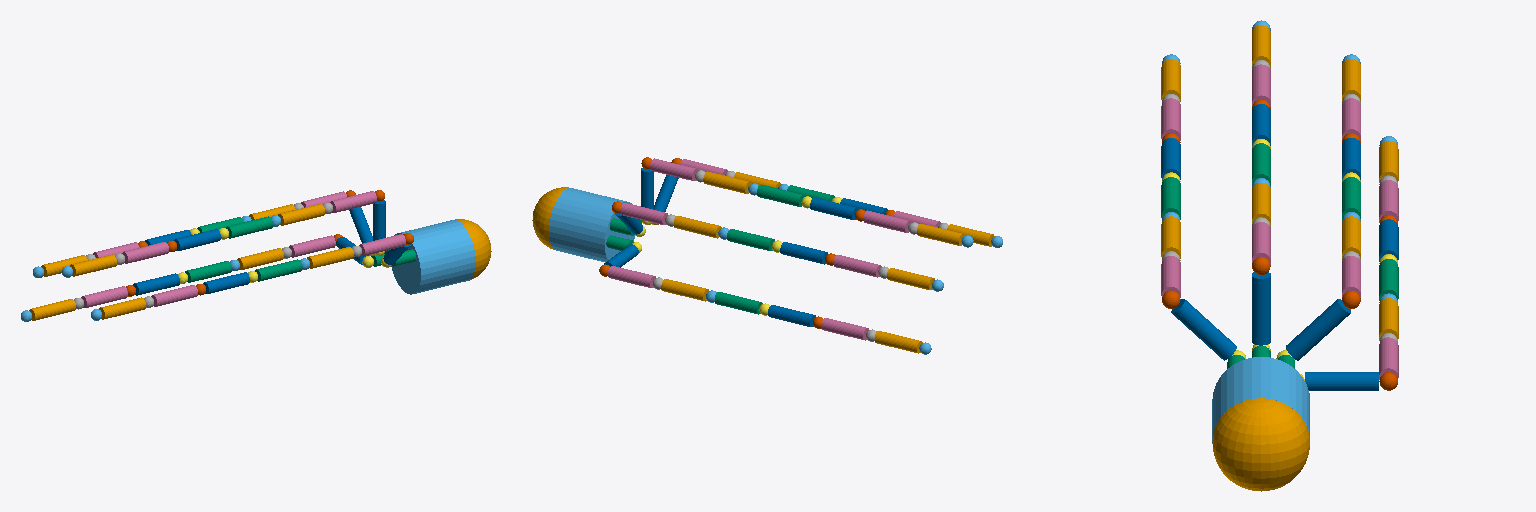
--- What the picture shows (computed from the rendered views, not written in the file) ---
3 views of the same robot in one strip: view 1: azimuth 30°, elevation 25°; view 2: azimuth 150°, elevation 25°; view 3: azimuth 270°, elevation 25° (orthographic).
Model sentinel/octopus_4_arms with 66 links and 65 joints (24 revolute, 41 fixed), rooted at eye, posed every joint at zero.
Visible links, largest first — view 1: head, eye, branch_26_cylinder, branch_04_cylinder, branch_23_cylinder, branch_02_cylinder, branch_06_cylinder, branch_22_cylinder, branch_33_cylinder, branch_36_cylinder, branch_01_cylinder, branch_03_cylinder (+8 smaller); view 2: head, eye, branch_21_cylinder, branch_22_cylinder, branch_25_cylinder, branch_02_cylinder, branch_05_cylinder, branch_14_cylinder, branch_24_cylinder, branch_01_cylinder, branch_04_cylinder, branch_06_cylinder (+8 smaller); view 3: eye, head, branch_30_cylinder, branch_10_cylinder, branch_00_cylinder, branch_20_cylinder, branch_02_cylinder, branch_05_cylinder, branch_32_cylinder, branch_33_cylinder, branch_36_cylinder, branch_04_cylinder (+18 smaller).
Link boxes in pixels (x1,y1,x2,y2): head: [391, 220, 475, 294]; eye: [455, 219, 491, 280]; branch_26_cylinder: [70, 254, 116, 276]; branch_04_cylinder: [133, 273, 179, 295]; branch_23_cylinder: [226, 216, 272, 238]; branch_02_cylinder: [237, 248, 283, 269]; branch_06_cylinder: [29, 299, 75, 320]; branch_22_cylinder: [278, 204, 324, 225]; branch_33_cylinder: [255, 259, 301, 281]; branch_36_cylinder: [99, 297, 145, 319]; branch_01_cylinder: [289, 235, 335, 257]; branch_03_cylinder: [185, 261, 231, 282]; head: [549, 188, 634, 262]; eye: [532, 187, 568, 249]; branch_21_cylinder: [650, 158, 697, 180]; branch_22_cylinder: [703, 171, 751, 193]; branch_25_cylinder: [863, 210, 911, 232]; branch_02_cylinder: [661, 279, 708, 301]; branch_05_cylinder: [821, 318, 868, 340]; branch_14_cylinder: [780, 242, 827, 264]; branch_24_cylinder: [810, 197, 857, 219]; branch_01_cylinder: [608, 266, 655, 287]; branch_04_cylinder: [768, 305, 815, 326]; branch_06_cylinder: [875, 331, 922, 353]; eye: [1212, 398, 1309, 491]; head: [1212, 357, 1309, 440]; branch_30_cylinder: [1171, 299, 1236, 360]; branch_10_cylinder: [1286, 299, 1350, 360]; branch_00_cylinder: [1305, 372, 1378, 390]; branch_20_cylinder: [1252, 272, 1270, 345]; branch_02_cylinder: [1379, 298, 1398, 340]; branch_05_cylinder: [1379, 180, 1398, 222]; branch_32_cylinder: [1161, 216, 1180, 258]; branch_33_cylinder: [1161, 177, 1180, 219]; branch_36_cylinder: [1161, 59, 1180, 101]; branch_04_cylinder: [1379, 219, 1398, 261].
Size in the robot's own frame: 1.55 by 0.4838 by 0.3801 metres.
Geometry: primitives only (box / cylinder / sphere), no mesh files.

robot.urdf — sentinel/octopus_4_arms:
<?xml version="1.0"?>
<robot name="sentinel/octopus_4_arms">
<link name="eye">
  <inertial>
   <mass value="1"/>
   <inertia ixx="0.004000000000000001" ixy="0" ixz="0" iyy="0.004000000000000001" iyz="0" izz="0.004000000000000001"/>
  </inertial>
  <collision>
    <origin rpy="0 0 0" xyz="0 0 0"/>
    <geometry>
      <sphere radius="0.1"/>
    </geometry>
  </collision>
  <visual>
    <origin rpy="0 0 0" xyz="0 0 0"/>
    <geometry>
      <sphere radius="0.1"/>
    </geometry>
  </visual>
</link>

 <link name="head">
  <inertial>
    <mass value="1"/>
    <inertia ixx="0.0058333333333333345" ixy="0" ixz="0" iyy="0.0058333333333333345" iyz="0" izz="0.0025000000000000005"/>
  </inertial>
  <visual>
    <origin rpy="0 1.57 0" xyz="-0.1 0 0"/>
    <geometry>
      <cylinder length="0.2" radius="0.1"/>
    </geometry>
  </visual>
  <collision>
    <origin rpy="0 1.57 0" xyz="-0.1 0 0"/>
    <geometry>
      <cylinder length="0.2" radius="0.1"/>
    </geometry>
  </collision>
 </link>

<joint name="joint_fixed_eye_head" type="fixed">
  <origin rpy="0 0 0" xyz="0 0 0"/>
  <parent link="eye"/>
  <child link="head"/>
</joint>

<!--############################################################################
branch_00
##############################################################################-->
 <link name="branch_00_cylinder_stub">
  <inertial>
    <mass value="1"/>
    <inertia ixx="0.0005687499999999999" ixy="0" ixz="0" iyy="0.0005687499999999999" iyz="0" izz="0.0001"/>
  </inertial>
  <visual>
    <origin rpy="0 1.57 0" xyz="-0.0375 0 0"/>
    <geometry>
      <cylinder length="0.075" radius="0.02"/>
    </geometry>
  </visual>
  <collision>
    <origin rpy="0 1.57 0" xyz="-0.0375 0 0"/>
    <geometry>
      <cylinder length="0.075" radius="0.02"/>
    </geometry>
  </collision>
 </link>

<joint name="joint_fixed_head_branch_00_cylinder_stub" type="fixed">
  <origin rpy="0 0 0" xyz="-0.2 0.06999999999999999 0.0"/>
  <parent link="head"/>
  <child link="branch_00_cylinder_stub"/>
</joint>

<link name="branch_00_sphere_stub">
  <inertial>
   <mass value="1"/>
   <inertia ixx="0.00014439999999999999" ixy="0" ixz="0" iyy="0.00014439999999999999" iyz="0" izz="0.00014439999999999999"/>
  </inertial>
  <collision>
    <origin rpy="0 0 0" xyz="-0.095 0 0"/>
    <geometry>
      <sphere radius="0.019"/>
    </geometry>
  </collision>
  <visual>
    <origin rpy="0 0 0" xyz="-0.095 0 0"/>
    <geometry>
      <sphere radius="0.019"/>
    </geometry>
  </visual>
</link>

<joint name="joint_fixed_branch_00_cylinder_stub_branch_00_sphere_stub" type="fixed">
  <origin rpy="0 0 0" xyz="0 0 0"/>
  <parent link="branch_00_cylinder_stub"/>
  <child link="branch_00_sphere_stub"/>
</joint>

 <link name="branch_00_cylinder">
  <inertial>
    <mass value="1"/>
    <inertia ixx="0.0019749999999999998" ixy="0" ixz="0" iyy="0.0019749999999999998" iyz="0" izz="0.0001"/>
  </inertial>
  <visual>
    <origin rpy="0 1.5707963267948966 1.57" xyz="-0.095 0.095 0.0"/>
    <geometry>
      <cylinder length="0.15" radius="0.02"/>
    </geometry>
  </visual>
  <collision>
    <origin rpy="0 1.5707963267948966 1.57" xyz="-0.095 0.095 0.0"/>
    <geometry>
      <cylinder length="0.15" radius="0.02"/>
    </geometry>
  </collision>
 </link>

<joint name="joint_fixed_branch_00_sphere_stub_branch_00_cylinder" type="fixed">
  <origin rpy="0 0 0" xyz="0 0 0"/>
  <parent link="branch_00_sphere_stub"/>
  <child link="branch_00_cylinder"/>
</joint>

<link name="branch_00">
  <inertial>
   <mass value="1"/>
   <inertia ixx="0.00014439999999999999" ixy="0" ixz="0" iyy="0.00014439999999999999" iyz="0" izz="0.00014439999999999999"/>
  </inertial>
  <collision>
    <origin rpy="0 0 0" xyz="0 0 0"/>
    <geometry>
      <sphere radius="0.019"/>
    </geometry>
  </collision>
  <visual>
    <origin rpy="0 0 0" xyz="0 0 0"/>
    <geometry>
      <sphere radius="0.019"/>
    </geometry>
  </visual>
</link>

<joint name="joint_fixed_branch_00_cylinder_branch_00" type="fixed">
  <origin rpy="0 0 0" xyz="-0.095 0.19 0.0"/>
  <parent link="branch_00_cylinder"/>
  <child link="branch_00"/>
</joint>

<!--############################################################################
branch_01
##############################################################################-->
 <link name="branch_01_cylinder">
  <inertial>
    <mass value="1"/>
    <inertia ixx="0.0019749999999999998" ixy="0" ixz="0" iyy="0.0019749999999999998" iyz="0" izz="0.0001"/>
  </inertial>
  <visual>
    <origin rpy="0 1.57 0" xyz="-0.095 0 0"/>
    <geometry>
      <cylinder length="0.15" radius="0.02"/>
    </geometry>
  </visual>
  <collision>
    <origin rpy="0 1.57 0" xyz="-0.095 0 0"/>
    <geometry>
      <cylinder length="0.15" radius="0.02"/>
    </geometry>
  </collision>
 </link>

<joint name="joint_revolute_branch_00_branch_01_cylinder_Z" type="revolute">
  <origin rpy="0 0 0" xyz="0 0 0"/>
  <parent link="branch_00"/>
  <child link="branch_01_cylinder"/>
  <axis xyz="0 0.0 -1.0"/>
  <dynamics damping="0.01" friction="0.5"/>
  <limit lower="-1.5707963267948966" upper="1.5707963267948966" effort="0.01" velocity="100"/>
</joint>

<link name="branch_01">
  <inertial>
   <mass value="1"/>
   <inertia ixx="0.00014439999999999999" ixy="0" ixz="0" iyy="0.00014439999999999999" iyz="0" izz="0.00014439999999999999"/>
  </inertial>
  <collision>
    <origin rpy="0 0 0" xyz="0 0 0"/>
    <geometry>
      <sphere radius="0.019"/>
    </geometry>
  </collision>
  <visual>
    <origin rpy="0 0 0" xyz="0 0 0"/>
    <geometry>
      <sphere radius="0.019"/>
    </geometry>
  </visual>
</link>

<joint name="joint_fixed_branch_01_cylinder_branch_01" type="fixed">
  <origin rpy="0 0 0" xyz="-0.19 0 0"/>
  <parent link="branch_01_cylinder"/>
  <child link="branch_01"/>
</joint>

<!--############################################################################
branch_02
##############################################################################-->
 <link name="branch_02_cylinder">
  <inertial>
    <mass value="1"/>
    <inertia ixx="0.0019749999999999998" ixy="0" ixz="0" iyy="0.0019749999999999998" iyz="0" izz="0.0001"/>
  </inertial>
  <visual>
    <origin rpy="0 1.57 0" xyz="-0.095 0 0"/>
    <geometry>
      <cylinder length="0.15" radius="0.02"/>
    </geometry>
  </visual>
  <collision>
    <origin rpy="0 1.57 0" xyz="-0.095 0 0"/>
    <geometry>
      <cylinder length="0.15" radius="0.02"/>
    </geometry>
  </collision>
 </link>

<joint name="joint_revolute_branch_01_branch_02_cylinder_Z" type="revolute">
  <origin rpy="0 0 0" xyz="0 0 0"/>
  <parent link="branch_01"/>
  <child link="branch_02_cylinder"/>
  <axis xyz="0 0.0 -1.0"/>
  <dynamics damping="0.01" friction="0.5"/>
  <limit lower="-1.5707963267948966" upper="1.5707963267948966" effort="0.01" velocity="100"/>
</joint>

<link name="branch_02">
  <inertial>
   <mass value="1"/>
   <inertia ixx="0.00014439999999999999" ixy="0" ixz="0" iyy="0.00014439999999999999" iyz="0" izz="0.00014439999999999999"/>
  </inertial>
  <collision>
    <origin rpy="0 0 0" xyz="0 0 0"/>
    <geometry>
      <sphere radius="0.019"/>
    </geometry>
  </collision>
  <visual>
    <origin rpy="0 0 0" xyz="0 0 0"/>
    <geometry>
      <sphere radius="0.019"/>
    </geometry>
  </visual>
</link>

<joint name="joint_fixed_branch_02_cylinder_branch_02" type="fixed">
  <origin rpy="0 0 0" xyz="-0.19 0 0"/>
  <parent link="branch_02_cylinder"/>
  <child link="branch_02"/>
</joint>

<!--############################################################################
branch_03
##############################################################################-->
 <link name="branch_03_cylinder">
  <inertial>
    <mass value="1"/>
    <inertia ixx="0.0019749999999999998" ixy="0" ixz="0" iyy="0.0019749999999999998" iyz="0" izz="0.0001"/>
  </inertial>
  <visual>
    <origin rpy="0 1.57 0" xyz="-0.095 0 0"/>
    <geometry>
      <cylinder length="0.15" radius="0.02"/>
    </geometry>
  </visual>
  <collision>
    <origin rpy="0 1.57 0" xyz="-0.095 0 0"/>
    <geometry>
      <cylinder length="0.15" radius="0.02"/>
    </geometry>
  </collision>
 </link>

<joint name="joint_revolute_branch_02_branch_03_cylinder_Z" type="revolute">
  <origin rpy="0 0 0" xyz="0 0 0"/>
  <parent link="branch_02"/>
  <child link="branch_03_cylinder"/>
  <axis xyz="0 0.0 -1.0"/>
  <dynamics damping="0.01" friction="0.5"/>
  <limit lower="-1.5707963267948966" upper="1.5707963267948966" effort="0.01" velocity="100"/>
</joint>

<link name="branch_03">
  <inertial>
   <mass value="1"/>
   <inertia ixx="0.00014439999999999999" ixy="0" ixz="0" iyy="0.00014439999999999999" iyz="0" izz="0.00014439999999999999"/>
  </inertial>
  <collision>
    <origin rpy="0 0 0" xyz="0 0 0"/>
    <geometry>
      <sphere radius="0.019"/>
    </geometry>
  </collision>
  <visual>
    <origin rpy="0 0 0" xyz="0 0 0"/>
    <geometry>
      <sphere radius="0.019"/>
    </geometry>
  </visual>
</link>

<joint name="joint_fixed_branch_03_cylinder_branch_03" type="fixed">
  <origin rpy="0 0 0" xyz="-0.19 0 0"/>
  <parent link="branch_03_cylinder"/>
  <child link="branch_03"/>
</joint>

<!--############################################################################
branch_04
##############################################################################-->
 <link name="branch_04_cylinder">
  <inertial>
    <mass value="1"/>
    <inertia ixx="0.0019749999999999998" ixy="0" ixz="0" iyy="0.0019749999999999998" iyz="0" izz="0.0001"/>
  </inertial>
  <visual>
    <origin rpy="0 1.57 0" xyz="-0.095 0 0"/>
    <geometry>
      <cylinder length="0.15" radius="0.02"/>
    </geometry>
  </visual>
  <collision>
    <origin rpy="0 1.57 0" xyz="-0.095 0 0"/>
    <geometry>
      <cylinder length="0.15" radius="0.02"/>
    </geometry>
  </collision>
 </link>

<joint name="joint_revolute_branch_03_branch_04_cylinder_Z" type="revolute">
  <origin rpy="0 0 0" xyz="0 0 0"/>
  <parent link="branch_03"/>
  <child link="branch_04_cylinder"/>
  <axis xyz="0 0.0 -1.0"/>
  <dynamics damping="0.01" friction="0.5"/>
  <limit lower="-1.5707963267948966" upper="1.5707963267948966" effort="0.01" velocity="100"/>
</joint>

<link name="branch_04">
  <inertial>
   <mass value="1"/>
   <inertia ixx="0.00014439999999999999" ixy="0" ixz="0" iyy="0.00014439999999999999" iyz="0" izz="0.00014439999999999999"/>
  </inertial>
  <collision>
    <origin rpy="0 0 0" xyz="0 0 0"/>
    <geometry>
      <sphere radius="0.019"/>
    </geometry>
  </collision>
  <visual>
    <origin rpy="0 0 0" xyz="0 0 0"/>
    <geometry>
      <sphere radius="0.019"/>
    </geometry>
  </visual>
</link>

<joint name="joint_fixed_branch_04_cylinder_branch_04" type="fixed">
  <origin rpy="0 0 0" xyz="-0.19 0 0"/>
  <parent link="branch_04_cylinder"/>
  <child link="branch_04"/>
</joint>

<!--############################################################################
branch_05
##############################################################################-->
 <link name="branch_05_cylinder">
  <inertial>
    <mass value="1"/>
    <inertia ixx="0.0019749999999999998" ixy="0" ixz="0" iyy="0.0019749999999999998" iyz="0" izz="0.0001"/>
  </inertial>
  <visual>
    <origin rpy="0 1.57 0" xyz="-0.095 0 0"/>
    <geometry>
      <cylinder length="0.15" radius="0.02"/>
    </geometry>
  </visual>
  <collision>
    <origin rpy="0 1.57 0" xyz="-0.095 0 0"/>
    <geometry>
      <cylinder length="0.15" radius="0.02"/>
    </geometry>
  </collision>
 </link>

<joint name="joint_revolute_branch_04_branch_05_cylinder_Z" type="revolute">
  <origin rpy="0 0 0" xyz="0 0 0"/>
  <parent link="branch_04"/>
  <child link="branch_05_cylinder"/>
  <axis xyz="0 0.0 -1.0"/>
  <dynamics damping="0.01" friction="0.5"/>
  <limit lower="-1.5707963267948966" upper="1.5707963267948966" effort="0.01" velocity="100"/>
</joint>

<link name="branch_05">
  <inertial>
   <mass value="1"/>
   <inertia ixx="0.00014439999999999999" ixy="0" ixz="0" iyy="0.00014439999999999999" iyz="0" izz="0.00014439999999999999"/>
  </inertial>
  <collision>
    <origin rpy="0 0 0" xyz="0 0 0"/>
    <geometry>
      <sphere radius="0.019"/>
    </geometry>
  </collision>
  <visual>
    <origin rpy="0 0 0" xyz="0 0 0"/>
    <geometry>
      <sphere radius="0.019"/>
    </geometry>
  </visual>
</link>

<joint name="joint_fixed_branch_05_cylinder_branch_05" type="fixed">
  <origin rpy="0 0 0" xyz="-0.19 0 0"/>
  <parent link="branch_05_cylinder"/>
  <child link="branch_05"/>
</joint>

<!--############################################################################
branch_06
##############################################################################-->
 <link name="branch_06_cylinder">
  <inertial>
    <mass value="1"/>
    <inertia ixx="0.0019749999999999998" ixy="0" ixz="0" iyy="0.0019749999999999998" iyz="0" izz="0.0001"/>
  </inertial>
  <visual>
    <origin rpy="0 1.57 0" xyz="-0.095 0 0"/>
    <geometry>
      <cylinder length="0.15" radius="0.02"/>
    </geometry>
  </visual>
  <collision>
    <origin rpy="0 1.57 0" xyz="-0.095 0 0"/>
    <geometry>
      <cylinder length="0.15" radius="0.02"/>
    </geometry>
  </collision>
 </link>

<joint name="joint_revolute_branch_05_branch_06_cylinder_Z" type="revolute">
  <origin rpy="0 0 0" xyz="0 0 0"/>
  <parent link="branch_05"/>
  <child link="branch_06_cylinder"/>
  <axis xyz="0 0.0 -1.0"/>
  <dynamics damping="0.01" friction="0.5"/>
  <limit lower="-1.5707963267948966" upper="1.5707963267948966" effort="0.01" velocity="100"/>
</joint>

<link name="branch_06">
  <inertial>
   <mass value="1"/>
   <inertia ixx="0.00014439999999999999" ixy="0" ixz="0" iyy="0.00014439999999999999" iyz="0" izz="0.00014439999999999999"/>
  </inertial>
  <collision>
    <origin rpy="0 0 0" xyz="0 0 0"/>
    <geometry>
      <sphere radius="0.019"/>
    </geometry>
  </collision>
  <visual>
    <origin rpy="0 0 0" xyz="0 0 0"/>
    <geometry>
      <sphere radius="0.019"/>
    </geometry>
  </visual>
</link>

<joint name="joint_fixed_branch_06_cylinder_branch_06" type="fixed">
  <origin rpy="0 0 0" xyz="-0.19 0 0"/>
  <parent link="branch_06_cylinder"/>
  <child link="branch_06"/>
</joint>

<!--############################################################################
branch_10
##############################################################################-->
 <link name="branch_10_cylinder_stub">
  <inertial>
    <mass value="1"/>
    <inertia ixx="0.0005687499999999999" ixy="0" ixz="0" iyy="0.0005687499999999999" iyz="0" izz="0.0001"/>
  </inertial>
  <visual>
    <origin rpy="0 1.57 0" xyz="-0.0375 0 0"/>
    <geometry>
      <cylinder length="0.075" radius="0.02"/>
    </geometry>
  </visual>
  <collision>
    <origin rpy="0 1.57 0" xyz="-0.0375 0 0"/>
    <geometry>
      <cylinder length="0.075" radius="0.02"/>
    </geometry>
  </collision>
 </link>

<joint name="joint_fixed_head_branch_10_cylinder_stub" type="fixed">
  <origin rpy="0 0 0" xyz="-0.2 0.049497474683058325 0.04949747468305832"/>
  <parent link="head"/>
  <child link="branch_10_cylinder_stub"/>
</joint>

<link name="branch_10_sphere_stub">
  <inertial>
   <mass value="1"/>
   <inertia ixx="0.00014439999999999999" ixy="0" ixz="0" iyy="0.00014439999999999999" iyz="0" izz="0.00014439999999999999"/>
  </inertial>
  <collision>
    <origin rpy="0 0 0" xyz="-0.095 0 0"/>
    <geometry>
      <sphere radius="0.019"/>
    </geometry>
  </collision>
  <visual>
    <origin rpy="0 0 0" xyz="-0.095 0 0"/>
    <geometry>
      <sphere radius="0.019"/>
    </geometry>
  </visual>
</link>

<joint name="joint_fixed_branch_10_cylinder_stub_branch_10_sphere_stub" type="fixed">
  <origin rpy="0 0 0" xyz="0 0 0"/>
  <parent link="branch_10_cylinder_stub"/>
  <child link="branch_10_sphere_stub"/>
</joint>

 <link name="branch_10_cylinder">
  <inertial>
    <mass value="1"/>
    <inertia ixx="0.0019749999999999998" ixy="0" ixz="0" iyy="0.0019749999999999998" iyz="0" izz="0.0001"/>
  </inertial>
  <visual>
    <origin rpy="0 0.7853981633974484 1.57" xyz="-0.095 0.06717514421272201 0.06717514421272201"/>
    <geometry>
      <cylinder length="0.15" radius="0.02"/>
    </geometry>
  </visual>
  <collision>
    <origin rpy="0 0.7853981633974484 1.57" xyz="-0.095 0.06717514421272201 0.06717514421272201"/>
    <geometry>
      <cylinder length="0.15" radius="0.02"/>
    </geometry>
  </collision>
 </link>

<joint name="joint_fixed_branch_10_sphere_stub_branch_10_cylinder" type="fixed">
  <origin rpy="0 0 0" xyz="0 0 0"/>
  <parent link="branch_10_sphere_stub"/>
  <child link="branch_10_cylinder"/>
</joint>

<link name="branch_10">
  <inertial>
   <mass value="1"/>
   <inertia ixx="0.00014439999999999999" ixy="0" ixz="0" iyy="0.00014439999999999999" iyz="0" izz="0.00014439999999999999"/>
  </inertial>
  <collision>
    <origin rpy="0 0 0" xyz="0 0 0"/>
    <geometry>
      <sphere radius="0.019"/>
    </geometry>
  </collision>
  <visual>
    <origin rpy="0 0 0" xyz="0 0 0"/>
    <geometry>
      <sphere radius="0.019"/>
    </geometry>
  </visual>
</link>

<joint name="joint_fixed_branch_10_cylinder_branch_10" type="fixed">
  <origin rpy="0 0 0" xyz="-0.095 0.13435028842544403 0.13435028842544403"/>
  <parent link="branch_10_cylinder"/>
  <child link="branch_10"/>
</joint>

<!--############################################################################
branch_11
##############################################################################-->
 <link name="branch_11_cylinder">
  <inertial>
    <mass value="1"/>
    <inertia ixx="0.0019749999999999998" ixy="0" ixz="0" iyy="0.0019749999999999998" iyz="0" izz="0.0001"/>
  </inertial>
  <visual>
    <origin rpy="0 1.57 0" xyz="-0.095 0 0"/>
    <geometry>
      <cylinder length="0.15" radius="0.02"/>
    </geometry>
  </visual>
  <collision>
    <origin rpy="0 1.57 0" xyz="-0.095 0 0"/>
    <geometry>
      <cylinder length="0.15" radius="0.02"/>
    </geometry>
  </collision>
 </link>

<joint name="joint_revolute_branch_10_branch_11_cylinder_Z" type="revolute">
  <origin rpy="0 0 0" xyz="0 0 0"/>
  <parent link="branch_10"/>
  <child link="branch_11_cylinder"/>
  <axis xyz="0 0.7071067811865475 -0.7071067811865476"/>
  <dynamics damping="0.01" friction="0.5"/>
  <limit lower="-1.5707963267948966" upper="1.5707963267948966" effort="0.01" velocity="100"/>
</joint>

<link name="branch_11">
  <inertial>
   <mass value="1"/>
   <inertia ixx="0.00014439999999999999" ixy="0" ixz="0" iyy="0.00014439999999999999" iyz="0" izz="0.00014439999999999999"/>
  </inertial>
  <collision>
    <origin rpy="0 0 0" xyz="0 0 0"/>
    <geometry>
      <sphere radius="0.019"/>
    </geometry>
  </collision>
  <visual>
    <origin rpy="0 0 0" xyz="0 0 0"/>
    <geometry>
      <sphere radius="0.019"/>
    </geometry>
  </visual>
</link>

<joint name="joint_fixed_branch_11_cylinder_branch_11" type="fixed">
  <origin rpy="0 0 0" xyz="-0.19 0 0"/>
  <parent link="branch_11_cylinder"/>
  <child link="branch_11"/>
</joint>

<!--############################################################################
branch_12
##############################################################################-->
 <link name="branch_12_cylinder">
  <inertial>
    <mass value="1"/>
    <inertia ixx="0.0019749999999999998" ixy="0" ixz="0" iyy="0.0019749999999999998" iyz="0" izz="0.0001"/>
  </inertial>
  <visual>
    <origin rpy="0 1.57 0" xyz="-0.095 0 0"/>
    <geometry>
      <cylinder length="0.15" radius="0.02"/>
    </geometry>
  </visual>
  <collision>
    <origin rpy="0 1.57 0" xyz="-0.095 0 0"/>
    <geometry>
      <cylinder length="0.15" radius="0.02"/>
    </geometry>
  </collision>
 </link>

<joint name="joint_revolute_branch_11_branch_12_cylinder_Z" type="revolute">
  <origin rpy="0 0 0" xyz="0 0 0"/>
  <parent link="branch_11"/>
  <child link="branch_12_cylinder"/>
  <axis xyz="0 0.7071067811865475 -0.7071067811865476"/>
  <dynamics damping="0.01" friction="0.5"/>
  <limit lower="-1.5707963267948966" upper="1.5707963267948966" effort="0.01" velocity="100"/>
</joint>

<link name="branch_12">
  <inertial>
   <mass value="1"/>
   <inertia ixx="0.00014439999999999999" ixy="0" ixz="0" iyy="0.00014439999999999999" iyz="0" izz="0.00014439999999999999"/>
  </inertial>
  <collision>
    <origin rpy="0 0 0" xyz="0 0 0"/>
    <geometry>
      <sphere radius="0.019"/>
    </geometry>
  </collision>
  <visual>
    <origin rpy="0 0 0" xyz="0 0 0"/>
    <geometry>
      <sphere radius="0.019"/>
    </geometry>
  </visual>
</link>

<joint name="joint_fixed_branch_12_cylinder_branch_12" type="fixed">
  <origin rpy="0 0 0" xyz="-0.19 0 0"/>
  <parent link="branch_12_cylinder"/>
  <child link="branch_12"/>
</joint>

<!--############################################################################
branch_13
##############################################################################-->
 <link name="branch_13_cylinder">
  <inertial>
    <mass value="1"/>
    <inertia ixx="0.0019749999999999998" ixy="0" ixz="0" iyy="0.0019749999999999998" iyz="0" izz="0.0001"/>
  </inertial>
  <visual>
    <origin rpy="0 1.57 0" xyz="-0.095 0 0"/>
    <geometry>
      <cylinder length="0.15" radius="0.02"/>
    </geometry>
  </visual>
  <collision>
    <origin rpy="0 1.57 0" xyz="-0.095 0 0"/>
    <geometry>
      <cylinder length="0.15" radius="0.02"/>
    </geometry>
  </collision>
 </link>

<joint name="joint_revolute_branch_12_branch_13_cylinder_Z" type="revolute">
  <origin rpy="0 0 0" xyz="0 0 0"/>
  <parent link="branch_12"/>
  <child link="branch_13_cylinder"/>
  <axis xyz="0 0.7071067811865475 -0.7071067811865476"/>
  <dynamics damping="0.01" friction="0.5"/>
  <limit lower="-1.5707963267948966" upper="1.5707963267948966" effort="0.01" velocity="100"/>
</joint>

<link name="branch_13">
  <inertial>
   <mass value="1"/>
   <inertia ixx="0.00014439999999999999" ixy="0" ixz="0" iyy="0.00014439999999999999" iyz="0" izz="0.00014439999999999999"/>
  </inertial>
  <collision>
    <origin rpy="0 0 0" xyz="0 0 0"/>
    <geometry>
      <sphere radius="0.019"/>
    </geometry>
  </collision>
  <visual>
    <origin rpy="0 0 0" xyz="0 0 0"/>
    <geometry>
      <sphere radius="0.019"/>
    </geometry>
  </visual>
</link>

<joint name="joint_fixed_branch_13_cylinder_branch_13" type="fixed">
  <origin rpy="0 0 0" xyz="-0.19 0 0"/>
  <parent link="branch_13_cylinder"/>
  <child link="branch_13"/>
</joint>

<!--############################################################################
branch_14
##############################################################################-->
 <link name="branch_14_cylinder">
  <inertial>
    <mass value="1"/>
    <inertia ixx="0.0019749999999999998" ixy="0" ixz="0" iyy="0.0019749999999999998" iyz="0" izz="0.0001"/>
  </inertial>
  <visual>
    <origin rpy="0 1.57 0" xyz="-0.095 0 0"/>
    <geometry>
      <cylinder length="0.15" radius="0.02"/>
    </geometry>
  </visual>
  <collision>
    <origin rpy="0 1.57 0" xyz="-0.095 0 0"/>
    <geometry>
      <cylinder length="0.15" radius="0.02"/>
    </geometry>
  </collision>
 </link>

<joint name="joint_revolute_branch_13_branch_14_cylinder_Z" type="revolute">
  <origin rpy="0 0 0" xyz="0 0 0"/>
  <parent link="branch_13"/>
  <child link="branch_14_cylinder"/>
  <axis xyz="0 0.7071067811865475 -0.7071067811865476"/>
  <dynamics damping="0.01" friction="0.5"/>
  <limit lower="-1.5707963267948966" upper="1.5707963267948966" effort="0.01" velocity="100"/>
</joint>

<link name="branch_14">
  <inertial>
   <mass value="1"/>
   <inertia ixx="0.00014439999999999999" ixy="0" ixz="0" iyy="0.00014439999999999999" iyz="0" izz="0.00014439999999999999"/>
  </inertial>
  <collision>
    <origin rpy="0 0 0" xyz="0 0 0"/>
    <geometry>
      <sphere radius="0.019"/>
    </geometry>
  </collision>
  <visual>
    <origin rpy="0 0 0" xyz="0 0 0"/>
    <geometry>
      <sphere radius="0.019"/>
    </geometry>
  </visual>
</link>

<joint name="joint_fixed_branch_14_cylinder_branch_14" type="fixed">
  <origin rpy="0 0 0" xyz="-0.19 0 0"/>
  <parent link="branch_14_cylinder"/>
  <child link="branch_14"/>
</joint>

<!--############################################################################
branch_15
##############################################################################-->
 <link name="branch_15_cylinder">
  <inertial>
    <mass value="1"/>
    <inertia ixx="0.0019749999999999998" ixy="0" ixz="0" iyy="0.0019749999999999998" iyz="0" izz="0.0001"/>
  </inertial>
  <visual>
    <origin rpy="0 1.57 0" xyz="-0.095 0 0"/>
    <geometry>
      <cylinder length="0.15" radius="0.02"/>
    </geometry>
  </visual>
  <collision>
    <origin rpy="0 1.57 0" xyz="-0.095 0 0"/>
    <geometry>
      <cylinder length="0.15" radius="0.02"/>
    </geometry>
  </collision>
 </link>

<joint name="joint_revolute_branch_14_branch_15_cylinder_Z" type="revolute">
  <origin rpy="0 0 0" xyz="0 0 0"/>
  <parent link="branch_14"/>
  <child link="branch_15_cylinder"/>
  <axis xyz="0 0.7071067811865475 -0.7071067811865476"/>
  <dynamics damping="0.01" friction="0.5"/>
  <limit lower="-1.5707963267948966" upper="1.5707963267948966" effort="0.01" velocity="100"/>
</joint>

<link name="branch_15">
  <inertial>
   <mass value="1"/>
   <inertia ixx="0.00014439999999999999" ixy="0" ixz="0" iyy="0.00014439999999999999" iyz="0" izz="0.00014439999999999999"/>
  </inertial>
  <collision>
    <origin rpy="0 0 0" xyz="0 0 0"/>
    <geometry>
      <sphere radius="0.019"/>
    </geometry>
  </collision>
  <visual>
    <origin rpy="0 0 0" xyz="0 0 0"/>
    <geometry>
      <sphere radius="0.019"/>
    </geometry>
  </visual>
</link>

<joint name="joint_fixed_branch_15_cylinder_branch_15" type="fixed">
  <origin rpy="0 0 0" xyz="-0.19 0 0"/>
  <parent link="branch_15_cylinder"/>
  <child link="branch_15"/>
</joint>

<!--############################################################################
branch_16
##############################################################################-->
 <link name="branch_16_cylinder">
  <inertial>
    <mass value="1"/>
    <inertia ixx="0.0019749999999999998" ixy="0" ixz="0" iyy="0.0019749999999999998" iyz="0" izz="0.0001"/>
  </inertial>
  <visual>
    <origin rpy="0 1.57 0" xyz="-0.095 0 0"/>
    <geometry>
      <cylinder length="0.15" radius="0.02"/>
    </geometry>
  </visual>
  <collision>
    <origin rpy="0 1.57 0" xyz="-0.095 0 0"/>
    <geometry>
      <cylinder length="0.15" radius="0.02"/>
    </geometry>
  </collision>
 </link>

<joint name="joint_revolute_branch_15_branch_16_cylinder_Z" type="revolute">
  <origin rpy="0 0 0" xyz="0 0 0"/>
  <parent link="branch_15"/>
  <child link="branch_16_cylinder"/>
  <axis xyz="0 0.7071067811865475 -0.7071067811865476"/>
  <dynamics damping="0.01" friction="0.5"/>
  <limit lower="-1.5707963267948966" upper="1.5707963267948966" effort="0.01" velocity="100"/>
</joint>

<link name="branch_16">
  <inertial>
   <mass value="1"/>
   <inertia ixx="0.00014439999999999999" ixy="0" ixz="0" iyy="0.00014439999999999999" iyz="0" izz="0.00014439999999999999"/>
  </inertial>
  <collision>
    <origin rpy="0 0 0" xyz="0 0 0"/>
    <geometry>
      <sphere radius="0.019"/>
    </geometry>
  </collision>
  <visual>
    <origin rpy="0 0 0" xyz="0 0 0"/>
    <geometry>
      <sphere radius="0.019"/>
    </geometry>
  </visual>
</link>

<joint name="joint_fixed_branch_16_cylinder_branch_16" type="fixed">
  <origin rpy="0 0 0" xyz="-0.19 0 0"/>
  <parent link="branch_16_cylinder"/>
  <child link="branch_16"/>
</joint>

<!--############################################################################
branch_20
##############################################################################-->
 <link name="branch_20_cylinder_stub">
  <inertial>
    <mass value="1"/>
    <inertia ixx="0.0005687499999999999" ixy="0" ixz="0" iyy="0.0005687499999999999" iyz="0" izz="0.0001"/>
  </inertial>
  <visual>
    <origin rpy="0 1.57 0" xyz="-0.0375 0 0"/>
    <geometry>
      <cylinder length="0.075" radius="0.02"/>
    </geometry>
  </visual>
  <collision>
    <origin rpy="0 1.57 0" xyz="-0.0375 0 0"/>
    <geometry>
      <cylinder length="0.075" radius="0.02"/>
    </geometry>
  </collision>
 </link>

<joint name="joint_fixed_head_branch_20_cylinder_stub" type="fixed">
  <origin rpy="0 0 0" xyz="-0.2 4.286263797015736e-18 0.06999999999999999"/>
  <parent link="head"/>
  <child link="branch_20_cylinder_stub"/>
</joint>

<link name="branch_20_sphere_stub">
  <inertial>
   <mass value="1"/>
   <inertia ixx="0.00014439999999999999" ixy="0" ixz="0" iyy="0.00014439999999999999" iyz="0" izz="0.00014439999999999999"/>
  </inertial>
  <collision>
    <origin rpy="0 0 0" xyz="-0.095 0 0"/>
    <geometry>
      <sphere radius="0.019"/>
    </geometry>
  </collision>
  <visual>
    <origin rpy="0 0 0" xyz="-0.095 0 0"/>
    <geometry>
      <sphere radius="0.019"/>
    </geometry>
  </visual>
</link>

<joint name="joint_fixed_branch_20_cylinder_stub_branch_20_sphere_stub" type="fixed">
  <origin rpy="0 0 0" xyz="0 0 0"/>
  <parent link="branch_20_cylinder_stub"/>
  <child link="branch_20_sphere_stub"/>
</joint>

 <link name="branch_20_cylinder">
  <inertial>
    <mass value="1"/>
    <inertia ixx="0.0019749999999999998" ixy="0" ixz="0" iyy="0.0019749999999999998" iyz="0" izz="0.0001"/>
  </inertial>
  <visual>
    <origin rpy="0 6.123233995736766e-17 1.57" xyz="-0.095 5.817072295949928e-18 0.095"/>
    <geometry>
      <cylinder length="0.15" radius="0.02"/>
    </geometry>
  </visual>
  <collision>
    <origin rpy="0 6.123233995736766e-17 1.57" xyz="-0.095 5.817072295949928e-18 0.095"/>
    <geometry>
      <cylinder length="0.15" radius="0.02"/>
    </geometry>
  </collision>
 </link>

<joint name="joint_fixed_branch_20_sphere_stub_branch_20_cylinder" type="fixed">
  <origin rpy="0 0 0" xyz="0 0 0"/>
  <parent link="branch_20_sphere_stub"/>
  <child link="branch_20_cylinder"/>
</joint>

<link name="branch_20">
  <inertial>
   <mass value="1"/>
   <inertia ixx="0.00014439999999999999" ixy="0" ixz="0" iyy="0.00014439999999999999" iyz="0" izz="0.00014439999999999999"/>
  </inertial>
  <collision>
    <origin rpy="0 0 0" xyz="0 0 0"/>
    <geometry>
      <sphere radius="0.019"/>
    </geometry>
  </collision>
  <visual>
    <origin rpy="0 0 0" xyz="0 0 0"/>
    <geometry>
      <sphere radius="0.019"/>
    </geometry>
  </visual>
</link>

<joint name="joint_fixed_branch_20_cylinder_branch_20" type="fixed">
  <origin rpy="0 0 0" xyz="-0.095 1.1634144591899856e-17 0.19"/>
  <parent link="branch_20_cylinder"/>
  <child link="branch_20"/>
</joint>

<!--############################################################################
branch_21
##############################################################################-->
 <link name="branch_21_cylinder">
  <inertial>
    <mass value="1"/>
    <inertia ixx="0.0019749999999999998" ixy="0" ixz="0" iyy="0.0019749999999999998" iyz="0" izz="0.0001"/>
  </inertial>
  <visual>
    <origin rpy="0 1.57 0" xyz="-0.095 0 0"/>
    <geometry>
      <cylinder length="0.15" radius="0.02"/>
    </geometry>
  </visual>
  <collision>
    <origin rpy="0 1.57 0" xyz="-0.095 0 0"/>
    <geometry>
      <cylinder length="0.15" radius="0.02"/>
    </geometry>
  </collision>
 </link>

<joint name="joint_revolute_branch_20_branch_21_cylinder_Z" type="revolute">
  <origin rpy="0 0 0" xyz="0 0 0"/>
  <parent link="branch_20"/>
  <child link="branch_21_cylinder"/>
  <axis xyz="0 1.0 -6.123233995736766e-17"/>
  <dynamics damping="0.01" friction="0.5"/>
  <limit lower="-1.5707963267948966" upper="1.5707963267948966" effort="0.01" velocity="100"/>
</joint>

<link name="branch_21">
  <inertial>
   <mass value="1"/>
   <inertia ixx="0.00014439999999999999" ixy="0" ixz="0" iyy="0.00014439999999999999" iyz="0" izz="0.00014439999999999999"/>
  </inertial>
  <collision>
    <origin rpy="0 0 0" xyz="0 0 0"/>
    <geometry>
      <sphere radius="0.019"/>
    </geometry>
  </collision>
  <visual>
    <origin rpy="0 0 0" xyz="0 0 0"/>
    <geometry>
      <sphere radius="0.019"/>
    </geometry>
  </visual>
</link>

<joint name="joint_fixed_branch_21_cylinder_branch_21" type="fixed">
  <origin rpy="0 0 0" xyz="-0.19 0 0"/>
  <parent link="branch_21_cylinder"/>
  <child link="branch_21"/>
</joint>

<!--############################################################################
branch_22
##############################################################################-->
 <link name="branch_22_cylinder">
  <inertial>
    <mass value="1"/>
    <inertia ixx="0.0019749999999999998" ixy="0" ixz="0" iyy="0.0019749999999999998" iyz="0" izz="0.0001"/>
  </inertial>
  <visual>
    <origin rpy="0 1.57 0" xyz="-0.095 0 0"/>
    <geometry>
      <cylinder length="0.15" radius="0.02"/>
    </geometry>
  </visual>
  <collision>
    <origin rpy="0 1.57 0" xyz="-0.095 0 0"/>
    <geometry>
      <cylinder length="0.15" radius="0.02"/>
    </geometry>
  </collision>
 </link>

<joint name="joint_revolute_branch_21_branch_22_cylinder_Z" type="revolute">
  <origin rpy="0 0 0" xyz="0 0 0"/>
  <parent link="branch_21"/>
  <child link="branch_22_cylinder"/>
  <axis xyz="0 1.0 -6.123233995736766e-17"/>
  <dynamics damping="0.01" friction="0.5"/>
  <limit lower="-1.5707963267948966" upper="1.5707963267948966" effort="0.01" velocity="100"/>
</joint>

<link name="branch_22">
  <inertial>
   <mass value="1"/>
   <inertia ixx="0.00014439999999999999" ixy="0" ixz="0" iyy="0.00014439999999999999" iyz="0" izz="0.00014439999999999999"/>
  </inertial>
  <collision>
    <origin rpy="0 0 0" xyz="0 0 0"/>
    <geometry>
      <sphere radius="0.019"/>
    </geometry>
  </collision>
  <visual>
    <origin rpy="0 0 0" xyz="0 0 0"/>
    <geometry>
      <sphere radius="0.019"/>
    </geometry>
  </visual>
</link>

<joint name="joint_fixed_branch_22_cylinder_branch_22" type="fixed">
  <origin rpy="0 0 0" xyz="-0.19 0 0"/>
  <parent link="branch_22_cylinder"/>
  <child link="branch_22"/>
</joint>

<!--############################################################################
branch_23
##############################################################################-->
 <link name="branch_23_cylinder">
  <inertial>
    <mass value="1"/>
    <inertia ixx="0.0019749999999999998" ixy="0" ixz="0" iyy="0.0019749999999999998" iyz="0" izz="0.0001"/>
  </inertial>
  <visual>
    <origin rpy="0 1.57 0" xyz="-0.095 0 0"/>
    <geometry>
      <cylinder length="0.15" radius="0.02"/>
    </geometry>
  </visual>
  <collision>
    <origin rpy="0 1.57 0" xyz="-0.095 0 0"/>
    <geometry>
      <cylinder length="0.15" radius="0.02"/>
    </geometry>
  </collision>
 </link>

<joint name="joint_revolute_branch_22_branch_23_cylinder_Z" type="revolute">
  <origin rpy="0 0 0" xyz="0 0 0"/>
  <parent link="branch_22"/>
  <child link="branch_23_cylinder"/>
  <axis xyz="0 1.0 -6.123233995736766e-17"/>
  <dynamics damping="0.01" friction="0.5"/>
  <limit lower="-1.5707963267948966" upper="1.5707963267948966" effort="0.01" velocity="100"/>
</joint>

<link name="branch_23">
  <inertial>
   <mass value="1"/>
   <inertia ixx="0.00014439999999999999" ixy="0" ixz="0" iyy="0.00014439999999999999" iyz="0" izz="0.00014439999999999999"/>
  </inertial>
  <collision>
    <origin rpy="0 0 0" xyz="0 0 0"/>
    <geometry>
      <sphere radius="0.019"/>
    </geometry>
  </collision>
  <visual>
    <origin rpy="0 0 0" xyz="0 0 0"/>
    <geometry>
      <sphere radius="0.019"/>
    </geometry>
  </visual>
</link>

<joint name="joint_fixed_branch_23_cylinder_branch_23" type="fixed">
  <origin rpy="0 0 0" xyz="-0.19 0 0"/>
  <parent link="branch_23_cylinder"/>
  <child link="branch_23"/>
</joint>

<!--############################################################################
branch_24
##############################################################################-->
 <link name="branch_24_cylinder">
  <inertial>
    <mass value="1"/>
    <inertia ixx="0.0019749999999999998" ixy="0" ixz="0" iyy="0.0019749999999999998" iyz="0" izz="0.0001"/>
  </inertial>
  <visual>
    <origin rpy="0 1.57 0" xyz="-0.095 0 0"/>
    <geometry>
      <cylinder length="0.15" radius="0.02"/>
    </geometry>
  </visual>
  <collision>
    <origin rpy="0 1.57 0" xyz="-0.095 0 0"/>
    <geometry>
      <cylinder length="0.15" radius="0.02"/>
    </geometry>
  </collision>
 </link>

<joint name="joint_revolute_branch_23_branch_24_cylinder_Z" type="revolute">
  <origin rpy="0 0 0" xyz="0 0 0"/>
  <parent link="branch_23"/>
  <child link="branch_24_cylinder"/>
  <axis xyz="0 1.0 -6.123233995736766e-17"/>
  <dynamics damping="0.01" friction="0.5"/>
  <limit lower="-1.5707963267948966" upper="1.5707963267948966" effort="0.01" velocity="100"/>
</joint>

<link name="branch_24">
  <inertial>
   <mass value="1"/>
   <inertia ixx="0.00014439999999999999" ixy="0" ixz="0" iyy="0.00014439999999999999" iyz="0" izz="0.00014439999999999999"/>
  </inertial>
  <collision>
    <origin rpy="0 0 0" xyz="0 0 0"/>
    <geometry>
      <sphere radius="0.019"/>
    </geometry>
  </collision>
  <visual>
    <origin rpy="0 0 0" xyz="0 0 0"/>
    <geometry>
      <sphere radius="0.019"/>
    </geometry>
  </visual>
</link>

<joint name="joint_fixed_branch_24_cylinder_branch_24" type="fixed">
  <origin rpy="0 0 0" xyz="-0.19 0 0"/>
  <parent link="branch_24_cylinder"/>
  <child link="branch_24"/>
</joint>

<!--############################################################################
branch_25
##############################################################################-->
 <link name="branch_25_cylinder">
  <inertial>
    <mass value="1"/>
    <inertia ixx="0.0019749999999999998" ixy="0" ixz="0" iyy="0.0019749999999999998" iyz="0" izz="0.0001"/>
  </inertial>
  <visual>
    <origin rpy="0 1.57 0" xyz="-0.095 0 0"/>
    <geometry>
      <cylinder length="0.15" radius="0.02"/>
    </geometry>
  </visual>
  <collision>
    <origin rpy="0 1.57 0" xyz="-0.095 0 0"/>
    <geometry>
      <cylinder length="0.15" radius="0.02"/>
    </geometry>
  </collision>
 </link>

<joint name="joint_revolute_branch_24_branch_25_cylinder_Z" type="revolute">
  <origin rpy="0 0 0" xyz="0 0 0"/>
  <parent link="branch_24"/>
  <child link="branch_25_cylinder"/>
  <axis xyz="0 1.0 -6.123233995736766e-17"/>
  <dynamics damping="0.01" friction="0.5"/>
  <limit lower="-1.5707963267948966" upper="1.5707963267948966" effort="0.01" velocity="100"/>
</joint>

<link name="branch_25">
  <inertial>
   <mass value="1"/>
   <inertia ixx="0.00014439999999999999" ixy="0" ixz="0" iyy="0.00014439999999999999" iyz="0" izz="0.00014439999999999999"/>
  </inertial>
  <collision>
    <origin rpy="0 0 0" xyz="0 0 0"/>
    <geometry>
      <sphere radius="0.019"/>
    </geometry>
  </collision>
  <visual>
    <origin rpy="0 0 0" xyz="0 0 0"/>
    <geometry>
      <sphere radius="0.019"/>
    </geometry>
  </visual>
</link>

<joint name="joint_fixed_branch_25_cylinder_branch_25" type="fixed">
  <origin rpy="0 0 0" xyz="-0.19 0 0"/>
  <parent link="branch_25_cylinder"/>
  <child link="branch_25"/>
</joint>

<!--############################################################################
branch_26
##############################################################################-->
 <link name="branch_26_cylinder">
  <inertial>
    <mass value="1"/>
    <inertia ixx="0.0019749999999999998" ixy="0" ixz="0" iyy="0.0019749999999999998" iyz="0" izz="0.0001"/>
  </inertial>
  <visual>
    <origin rpy="0 1.57 0" xyz="-0.095 0 0"/>
    <geometry>
      <cylinder length="0.15" radius="0.02"/>
    </geometry>
  </visual>
  <collision>
    <origin rpy="0 1.57 0" xyz="-0.095 0 0"/>
    <geometry>
      <cylinder length="0.15" radius="0.02"/>
    </geometry>
  </collision>
 </link>

<joint name="joint_revolute_branch_25_branch_26_cylinder_Z" type="revolute">
  <origin rpy="0 0 0" xyz="0 0 0"/>
  <parent link="branch_25"/>
  <child link="branch_26_cylinder"/>
  <axis xyz="0 1.0 -6.123233995736766e-17"/>
  <dynamics damping="0.01" friction="0.5"/>
  <limit lower="-1.5707963267948966" upper="1.5707963267948966" effort="0.01" velocity="100"/>
</joint>

<link name="branch_26">
  <inertial>
   <mass value="1"/>
   <inertia ixx="0.00014439999999999999" ixy="0" ixz="0" iyy="0.00014439999999999999" iyz="0" izz="0.00014439999999999999"/>
  </inertial>
  <collision>
    <origin rpy="0 0 0" xyz="0 0 0"/>
    <geometry>
      <sphere radius="0.019"/>
    </geometry>
  </collision>
  <visual>
    <origin rpy="0 0 0" xyz="0 0 0"/>
    <geometry>
      <sphere radius="0.019"/>
    </geometry>
  </visual>
</link>

<joint name="joint_fixed_branch_26_cylinder_branch_26" type="fixed">
  <origin rpy="0 0 0" xyz="-0.19 0 0"/>
  <parent link="branch_26_cylinder"/>
  <child link="branch_26"/>
</joint>

<!--############################################################################
branch_30
##############################################################################-->
 <link name="branch_30_cylinder_stub">
  <inertial>
    <mass value="1"/>
    <inertia ixx="0.0005687499999999999" ixy="0" ixz="0" iyy="0.0005687499999999999" iyz="0" izz="0.0001"/>
  </inertial>
  <visual>
    <origin rpy="0 1.57 0" xyz="-0.0375 0 0"/>
    <geometry>
      <cylinder length="0.075" radius="0.02"/>
    </geometry>
  </visual>
  <collision>
    <origin rpy="0 1.57 0" xyz="-0.0375 0 0"/>
    <geometry>
      <cylinder length="0.075" radius="0.02"/>
    </geometry>
  </collision>
 </link>

<joint name="joint_fixed_head_branch_30_cylinder_stub" type="fixed">
  <origin rpy="0 0 0" xyz="-0.2 -0.04949747468305832 0.049497474683058325"/>
  <parent link="head"/>
  <child link="branch_30_cylinder_stub"/>
</joint>

<link name="branch_30_sphere_stub">
  <inertial>
   <mass value="1"/>
   <inertia ixx="0.00014439999999999999" ixy="0" ixz="0" iyy="0.00014439999999999999" iyz="0" izz="0.00014439999999999999"/>
  </inertial>
  <collision>
    <origin rpy="0 0 0" xyz="-0.095 0 0"/>
    <geometry>
      <sphere radius="0.019"/>
    </geometry>
  </collision>
  <visual>
    <origin rpy="0 0 0" xyz="-0.095 0 0"/>
    <geometry>
      <sphere radius="0.019"/>
    </geometry>
  </visual>
</link>

<joint name="joint_fixed_branch_30_cylinder_stub_branch_30_sphere_stub" type="fixed">
  <origin rpy="0 0 0" xyz="0 0 0"/>
  <parent link="branch_30_cylinder_stub"/>
  <child link="branch_30_sphere_stub"/>
</joint>

 <link name="branch_30_cylinder">
  <inertial>
    <mass value="1"/>
    <inertia ixx="0.0019749999999999998" ixy="0" ixz="0" iyy="0.0019749999999999998" iyz="0" izz="0.0001"/>
  </inertial>
  <visual>
    <origin rpy="0 -0.7853981633974483 1.57" xyz="-0.095 -0.06717514421272201 0.06717514421272201"/>
    <geometry>
      <cylinder length="0.15" radius="0.02"/>
    </geometry>
  </visual>
  <collision>
    <origin rpy="0 -0.7853981633974483 1.57" xyz="-0.095 -0.06717514421272201 0.06717514421272201"/>
    <geometry>
      <cylinder length="0.15" radius="0.02"/>
    </geometry>
  </collision>
 </link>

<joint name="joint_fixed_branch_30_sphere_stub_branch_30_cylinder" type="fixed">
  <origin rpy="0 0 0" xyz="0 0 0"/>
  <parent link="branch_30_sphere_stub"/>
  <child link="branch_30_cylinder"/>
</joint>

<link name="branch_30">
  <inertial>
   <mass value="1"/>
   <inertia ixx="0.00014439999999999999" ixy="0" ixz="0" iyy="0.00014439999999999999" iyz="0" izz="0.00014439999999999999"/>
  </inertial>
  <collision>
    <origin rpy="0 0 0" xyz="0 0 0"/>
    <geometry>
      <sphere radius="0.019"/>
    </geometry>
  </collision>
  <visual>
    <origin rpy="0 0 0" xyz="0 0 0"/>
    <geometry>
      <sphere radius="0.019"/>
    </geometry>
  </visual>
</link>

<joint name="joint_fixed_branch_30_cylinder_branch_30" type="fixed">
  <origin rpy="0 0 0" xyz="-0.095 -0.13435028842544403 0.13435028842544403"/>
  <parent link="branch_30_cylinder"/>
  <child link="branch_30"/>
</joint>

<!--############################################################################
branch_31
##############################################################################-->
 <link name="branch_31_cylinder">
  <inertial>
    <mass value="1"/>
    <inertia ixx="0.0019749999999999998" ixy="0" ixz="0" iyy="0.0019749999999999998" iyz="0" izz="0.0001"/>
  </inertial>
  <visual>
    <origin rpy="0 1.57 0" xyz="-0.095 0 0"/>
    <geometry>
      <cylinder length="0.15" radius="0.02"/>
    </geometry>
  </visual>
  <collision>
    <origin rpy="0 1.57 0" xyz="-0.095 0 0"/>
    <geometry>
      <cylinder length="0.15" radius="0.02"/>
    </geometry>
  </collision>
 </link>

<joint name="joint_revolute_branch_30_branch_31_cylinder_Z" type="revolute">
  <origin rpy="0 0 0" xyz="0 0 0"/>
  <parent link="branch_30"/>
  <child link="branch_31_cylinder"/>
  <axis xyz="0 0.7071067811865476 0.7071067811865475"/>
  <dynamics damping="0.01" friction="0.5"/>
  <limit lower="-1.5707963267948966" upper="1.5707963267948966" effort="0.01" velocity="100"/>
</joint>

<link name="branch_31">
  <inertial>
   <mass value="1"/>
   <inertia ixx="0.00014439999999999999" ixy="0" ixz="0" iyy="0.00014439999999999999" iyz="0" izz="0.00014439999999999999"/>
  </inertial>
  <collision>
    <origin rpy="0 0 0" xyz="0 0 0"/>
    <geometry>
      <sphere radius="0.019"/>
    </geometry>
  </collision>
  <visual>
    <origin rpy="0 0 0" xyz="0 0 0"/>
    <geometry>
      <sphere radius="0.019"/>
    </geometry>
  </visual>
</link>

<joint name="joint_fixed_branch_31_cylinder_branch_31" type="fixed">
  <origin rpy="0 0 0" xyz="-0.19 0 0"/>
  <parent link="branch_31_cylinder"/>
  <child link="branch_31"/>
</joint>

<!--############################################################################
branch_32
##############################################################################-->
 <link name="branch_32_cylinder">
  <inertial>
    <mass value="1"/>
    <inertia ixx="0.0019749999999999998" ixy="0" ixz="0" iyy="0.0019749999999999998" iyz="0" izz="0.0001"/>
  </inertial>
  <visual>
    <origin rpy="0 1.57 0" xyz="-0.095 0 0"/>
    <geometry>
      <cylinder length="0.15" radius="0.02"/>
    </geometry>
  </visual>
  <collision>
    <origin rpy="0 1.57 0" xyz="-0.095 0 0"/>
    <geometry>
      <cylinder length="0.15" radius="0.02"/>
    </geometry>
  </collision>
 </link>

<joint name="joint_revolute_branch_31_branch_32_cylinder_Z" type="revolute">
  <origin rpy="0 0 0" xyz="0 0 0"/>
  <parent link="branch_31"/>
  <child link="branch_32_cylinder"/>
  <axis xyz="0 0.7071067811865476 0.7071067811865475"/>
  <dynamics damping="0.01" friction="0.5"/>
  <limit lower="-1.5707963267948966" upper="1.5707963267948966" effort="0.01" velocity="100"/>
</joint>

<link name="branch_32">
  <inertial>
   <mass value="1"/>
   <inertia ixx="0.00014439999999999999" ixy="0" ixz="0" iyy="0.00014439999999999999" iyz="0" izz="0.00014439999999999999"/>
  </inertial>
  <collision>
    <origin rpy="0 0 0" xyz="0 0 0"/>
    <geometry>
      <sphere radius="0.019"/>
    </geometry>
  </collision>
  <visual>
    <origin rpy="0 0 0" xyz="0 0 0"/>
    <geometry>
      <sphere radius="0.019"/>
    </geometry>
  </visual>
</link>

<joint name="joint_fixed_branch_32_cylinder_branch_32" type="fixed">
  <origin rpy="0 0 0" xyz="-0.19 0 0"/>
  <parent link="branch_32_cylinder"/>
  <child link="branch_32"/>
</joint>

<!--############################################################################
branch_33
##############################################################################-->
 <link name="branch_33_cylinder">
  <inertial>
    <mass value="1"/>
    <inertia ixx="0.0019749999999999998" ixy="0" ixz="0" iyy="0.0019749999999999998" iyz="0" izz="0.0001"/>
  </inertial>
  <visual>
    <origin rpy="0 1.57 0" xyz="-0.095 0 0"/>
    <geometry>
      <cylinder length="0.15" radius="0.02"/>
    </geometry>
  </visual>
  <collision>
    <origin rpy="0 1.57 0" xyz="-0.095 0 0"/>
    <geometry>
      <cylinder length="0.15" radius="0.02"/>
    </geometry>
  </collision>
 </link>

<joint name="joint_revolute_branch_32_branch_33_cylinder_Z" type="revolute">
  <origin rpy="0 0 0" xyz="0 0 0"/>
  <parent link="branch_32"/>
  <child link="branch_33_cylinder"/>
  <axis xyz="0 0.7071067811865476 0.7071067811865475"/>
  <dynamics damping="0.01" friction="0.5"/>
  <limit lower="-1.5707963267948966" upper="1.5707963267948966" effort="0.01" velocity="100"/>
</joint>

<link name="branch_33">
  <inertial>
   <mass value="1"/>
   <inertia ixx="0.00014439999999999999" ixy="0" ixz="0" iyy="0.00014439999999999999" iyz="0" izz="0.00014439999999999999"/>
  </inertial>
  <collision>
    <origin rpy="0 0 0" xyz="0 0 0"/>
    <geometry>
      <sphere radius="0.019"/>
    </geometry>
  </collision>
  <visual>
    <origin rpy="0 0 0" xyz="0 0 0"/>
    <geometry>
      <sphere radius="0.019"/>
    </geometry>
  </visual>
</link>

<joint name="joint_fixed_branch_33_cylinder_branch_33" type="fixed">
  <origin rpy="0 0 0" xyz="-0.19 0 0"/>
  <parent link="branch_33_cylinder"/>
  <child link="branch_33"/>
</joint>

<!--############################################################################
branch_34
##############################################################################-->
 <link name="branch_34_cylinder">
  <inertial>
    <mass value="1"/>
    <inertia ixx="0.0019749999999999998" ixy="0" ixz="0" iyy="0.0019749999999999998" iyz="0" izz="0.0001"/>
  </inertial>
  <visual>
    <origin rpy="0 1.57 0" xyz="-0.095 0 0"/>
    <geometry>
      <cylinder length="0.15" radius="0.02"/>
    </geometry>
  </visual>
  <collision>
    <origin rpy="0 1.57 0" xyz="-0.095 0 0"/>
    <geometry>
      <cylinder length="0.15" radius="0.02"/>
    </geometry>
  </collision>
 </link>

<joint name="joint_revolute_branch_33_branch_34_cylinder_Z" type="revolute">
  <origin rpy="0 0 0" xyz="0 0 0"/>
  <parent link="branch_33"/>
  <child link="branch_34_cylinder"/>
  <axis xyz="0 0.7071067811865476 0.7071067811865475"/>
  <dynamics damping="0.01" friction="0.5"/>
  <limit lower="-1.5707963267948966" upper="1.5707963267948966" effort="0.01" velocity="100"/>
</joint>

<link name="branch_34">
  <inertial>
   <mass value="1"/>
   <inertia ixx="0.00014439999999999999" ixy="0" ixz="0" iyy="0.00014439999999999999" iyz="0" izz="0.00014439999999999999"/>
  </inertial>
  <collision>
    <origin rpy="0 0 0" xyz="0 0 0"/>
    <geometry>
      <sphere radius="0.019"/>
    </geometry>
  </collision>
  <visual>
    <origin rpy="0 0 0" xyz="0 0 0"/>
    <geometry>
      <sphere radius="0.019"/>
    </geometry>
  </visual>
</link>

<joint name="joint_fixed_branch_34_cylinder_branch_34" type="fixed">
  <origin rpy="0 0 0" xyz="-0.19 0 0"/>
  <parent link="branch_34_cylinder"/>
  <child link="branch_34"/>
</joint>

<!--############################################################################
branch_35
##############################################################################-->
 <link name="branch_35_cylinder">
  <inertial>
    <mass value="1"/>
    <inertia ixx="0.0019749999999999998" ixy="0" ixz="0" iyy="0.0019749999999999998" iyz="0" izz="0.0001"/>
  </inertial>
  <visual>
    <origin rpy="0 1.57 0" xyz="-0.095 0 0"/>
    <geometry>
      <cylinder length="0.15" radius="0.02"/>
    </geometry>
  </visual>
  <collision>
    <origin rpy="0 1.57 0" xyz="-0.095 0 0"/>
    <geometry>
      <cylinder length="0.15" radius="0.02"/>
    </geometry>
  </collision>
 </link>

<joint name="joint_revolute_branch_34_branch_35_cylinder_Z" type="revolute">
  <origin rpy="0 0 0" xyz="0 0 0"/>
  <parent link="branch_34"/>
  <child link="branch_35_cylinder"/>
  <axis xyz="0 0.7071067811865476 0.7071067811865475"/>
  <dynamics damping="0.01" friction="0.5"/>
  <limit lower="-1.5707963267948966" upper="1.5707963267948966" effort="0.01" velocity="100"/>
</joint>

<link name="branch_35">
  <inertial>
   <mass value="1"/>
   <inertia ixx="0.00014439999999999999" ixy="0" ixz="0" iyy="0.00014439999999999999" iyz="0" izz="0.00014439999999999999"/>
  </inertial>
  <collision>
    <origin rpy="0 0 0" xyz="0 0 0"/>
    <geometry>
      <sphere radius="0.019"/>
    </geometry>
  </collision>
  <visual>
    <origin rpy="0 0 0" xyz="0 0 0"/>
    <geometry>
      <sphere radius="0.019"/>
    </geometry>
  </visual>
</link>

<joint name="joint_fixed_branch_35_cylinder_branch_35" type="fixed">
  <origin rpy="0 0 0" xyz="-0.19 0 0"/>
  <parent link="branch_35_cylinder"/>
  <child link="branch_35"/>
</joint>

<!--############################################################################
branch_36
##############################################################################-->
 <link name="branch_36_cylinder">
  <inertial>
    <mass value="1"/>
    <inertia ixx="0.0019749999999999998" ixy="0" ixz="0" iyy="0.0019749999999999998" iyz="0" izz="0.0001"/>
  </inertial>
  <visual>
    <origin rpy="0 1.57 0" xyz="-0.095 0 0"/>
    <geometry>
      <cylinder length="0.15" radius="0.02"/>
    </geometry>
  </visual>
  <collision>
    <origin rpy="0 1.57 0" xyz="-0.095 0 0"/>
    <geometry>
      <cylinder length="0.15" radius="0.02"/>
    </geometry>
  </collision>
 </link>

<joint name="joint_revolute_branch_35_branch_36_cylinder_Z" type="revolute">
  <origin rpy="0 0 0" xyz="0 0 0"/>
  <parent link="branch_35"/>
  <child link="branch_36_cylinder"/>
  <axis xyz="0 0.7071067811865476 0.7071067811865475"/>
  <dynamics damping="0.01" friction="0.5"/>
  <limit lower="-1.5707963267948966" upper="1.5707963267948966" effort="0.01" velocity="100"/>
</joint>

<link name="branch_36">
  <inertial>
   <mass value="1"/>
   <inertia ixx="0.00014439999999999999" ixy="0" ixz="0" iyy="0.00014439999999999999" iyz="0" izz="0.00014439999999999999"/>
  </inertial>
  <collision>
    <origin rpy="0 0 0" xyz="0 0 0"/>
    <geometry>
      <sphere radius="0.019"/>
    </geometry>
  </collision>
  <visual>
    <origin rpy="0 0 0" xyz="0 0 0"/>
    <geometry>
      <sphere radius="0.019"/>
    </geometry>
  </visual>
</link>

<joint name="joint_fixed_branch_36_cylinder_branch_36" type="fixed">
  <origin rpy="0 0 0" xyz="-0.19 0 0"/>
  <parent link="branch_36_cylinder"/>
  <child link="branch_36"/>
</joint>

  <klampt package_root="../../.." default_acc_max="4" >
  </klampt>
</robot>
